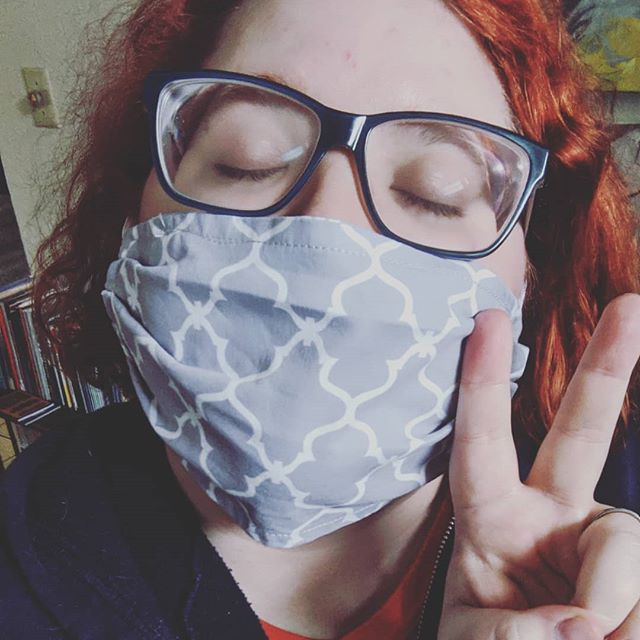homemade: (105, 211, 522, 544)
